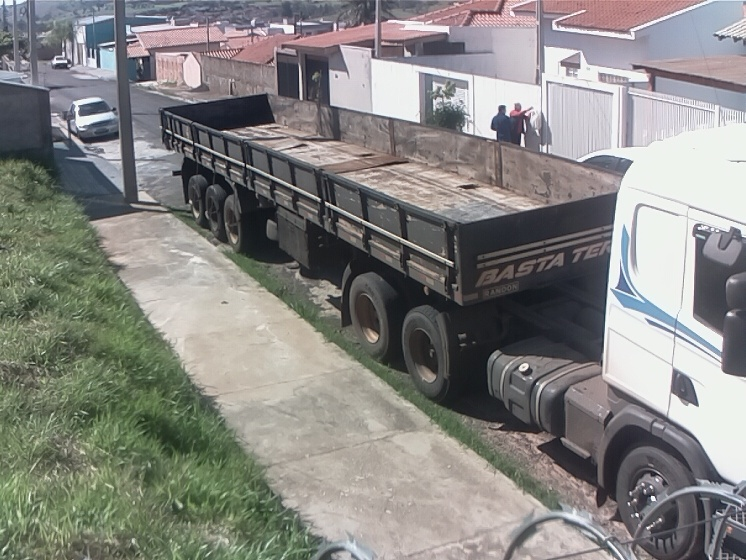person: (506, 98, 539, 148), (489, 104, 512, 146)
